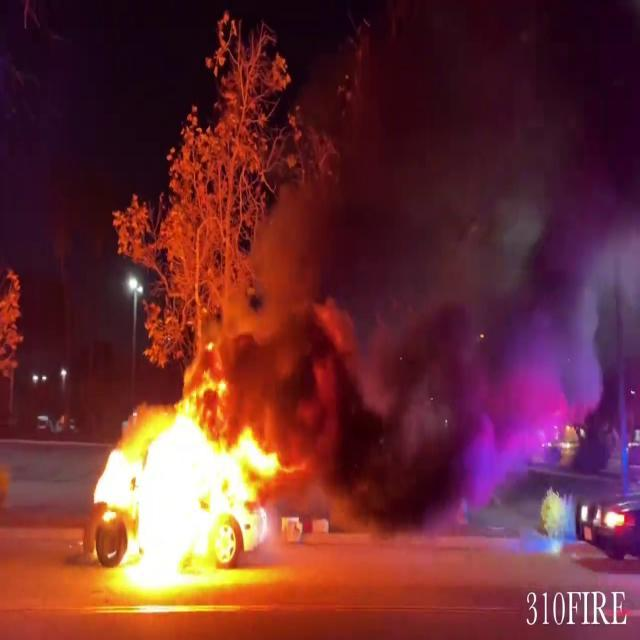Fire: (87, 351, 298, 592)
Smoke: (260, 3, 640, 535)
